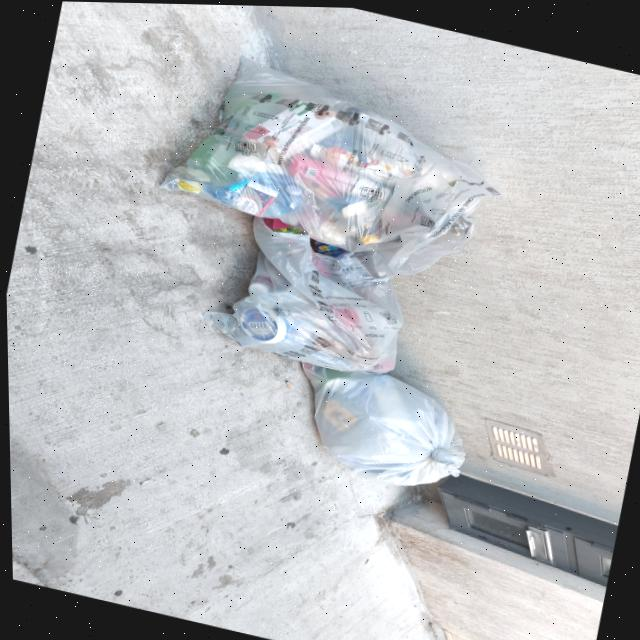Recycled Waste -Grey or Green Bag-: (148, 41, 519, 291), (197, 204, 422, 381), (279, 354, 480, 500)
